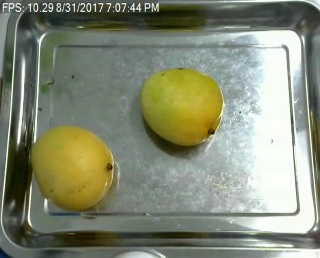Mango: (25, 123, 113, 210), (140, 66, 221, 146)
